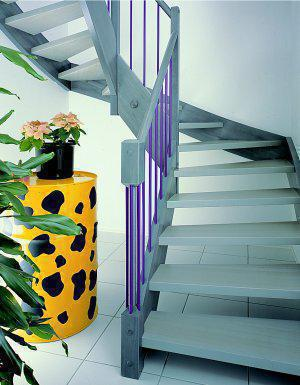Escaleras: (25, 5, 296, 376)
